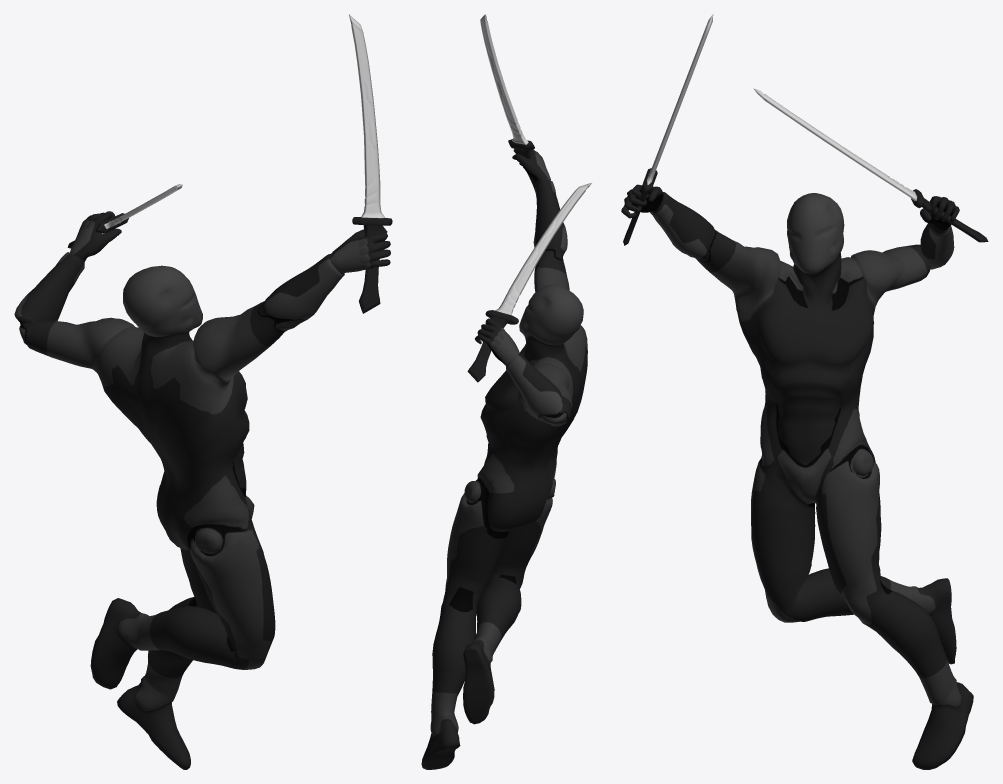
The picture shows the model from 3 angles, left to right: view 1: azimuth 30°, elevation 25°; view 2: azimuth 150°, elevation 25°; view 3: azimuth 270°, elevation 25°; orthographic projection. The views are drawn at different scales.
Parts seen in each view (by area): view 1: Cyborg_Ninja_Killer, Sword_l001, Sword_l; view 2: Cyborg_Ninja_Killer, Sword_l, Sword_l001; view 3: Cyborg_Ninja_Killer, Sword_l, Sword_l001.
Part boxes in pixels (x1,y1,x2,y2): Cyborg_Ninja_Killer: (14,211,390,769); Sword_l001: (349,14,392,313); Sword_l: (67,184,182,248); Cyborg_Ninja_Killer: (421,149,587,769); Sword_l: (467,183,591,382); Sword_l001: (480,14,536,195); Cyborg_Ninja_Killer: (621,184,973,769); Sword_l: (753,88,988,242); Sword_l001: (623,14,713,245).
Size of the model in its own units: 76.3 by 268 by 115.
Materials: 2 (2 with a texture image).
